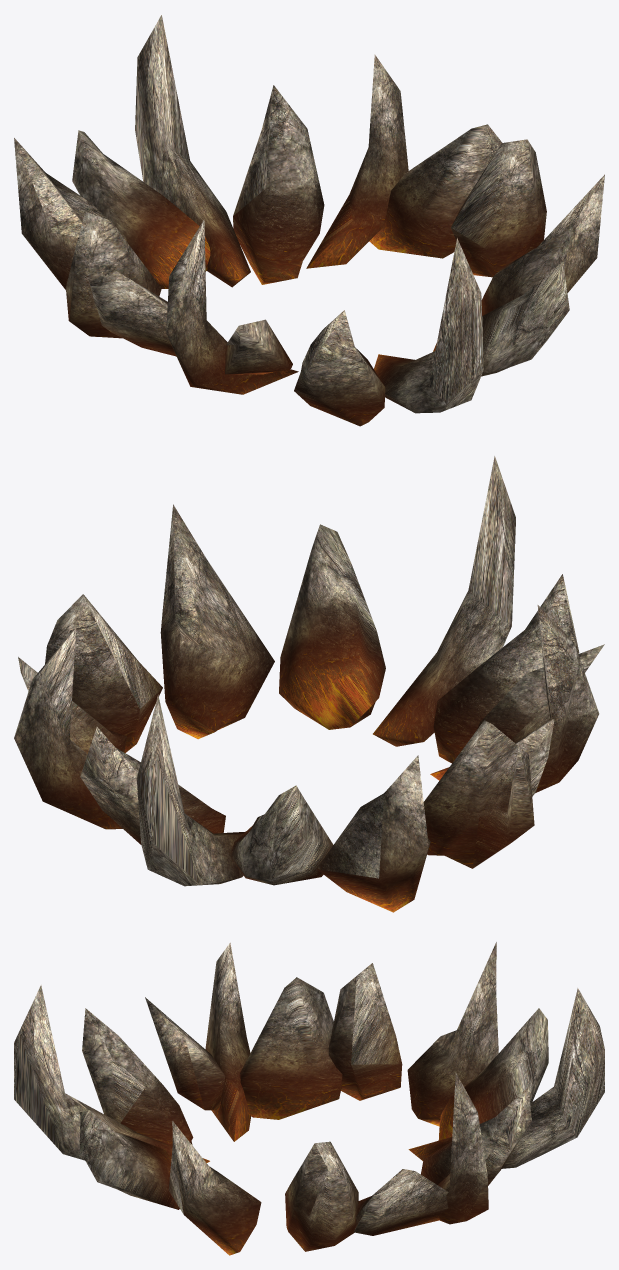
The model's file is dici06.FBX.
The picture shows the model from 3 angles, top to bottom: view 1: azimuth 30°, elevation 25°; view 2: azimuth 150°, elevation 25°; view 3: azimuth 270°, elevation 25°; orthographic projection. The views are drawn at different scales.
Parts seen in each view (by area): view 1: rock013; view 2: rock013; view 3: rock013.
Boxes of the visible parts, box(x1,y1,x2,y2) form: rock013: box(14, 15, 604, 426); rock013: box(14, 456, 604, 912); rock013: box(14, 942, 604, 1255).
Bounding box in the file's own units: 16.21 × 7.5 × 20.19.
